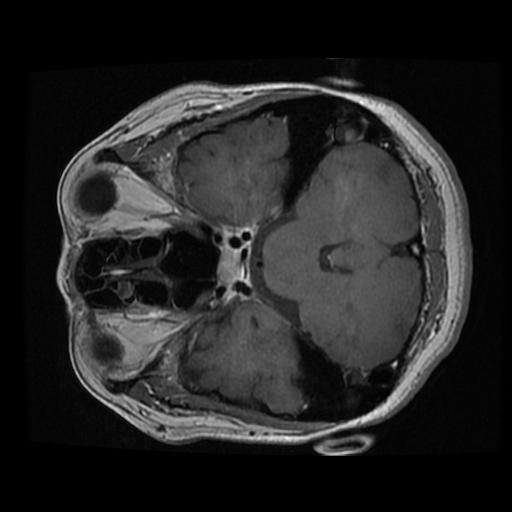pituitary tumour: (216, 244, 244, 286)
